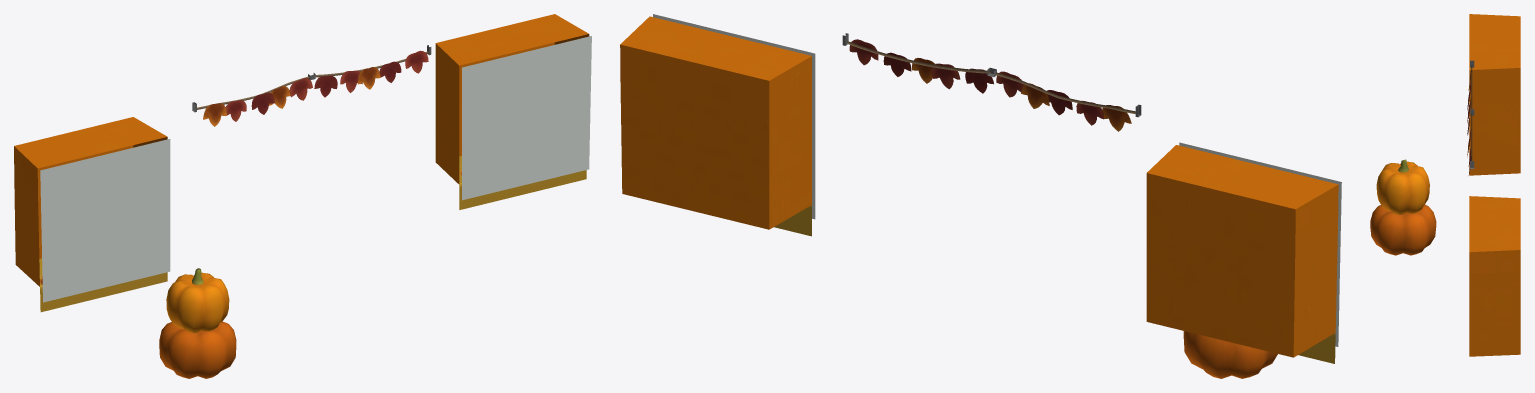
Rendered from shop-deco-autumn.glb.
3 renders of one model, left to right at view 1: azimuth 30°, elevation 25°; view 2: azimuth 150°, elevation 25°; view 3: azimuth 270°, elevation 25°, orthographic. The views are drawn at different scales.
Parts seen in each view (by area): view 1: StrcMarketA02AutumnDeco_node1, StrcMarketA02AutumnDeco_node2; view 2: StrcMarketA02AutumnDeco_node2, StrcMarketA02AutumnDeco_node1; view 3: StrcMarketA02AutumnDeco_node2.
Boxes of the visible parts, x1,y1,x2,y2 form: StrcMarketA02AutumnDeco_node1: (40, 36, 591, 302); StrcMarketA02AutumnDeco_node2: (14, 14, 589, 378); StrcMarketA02AutumnDeco_node2: (620, 16, 1338, 378); StrcMarketA02AutumnDeco_node1: (653, 14, 1341, 346); StrcMarketA02AutumnDeco_node2: (1370, 14, 1520, 356).
Size of the model in its own units: 49.21 by 19.68 by 13.13.
2 materials, 1 textured.
